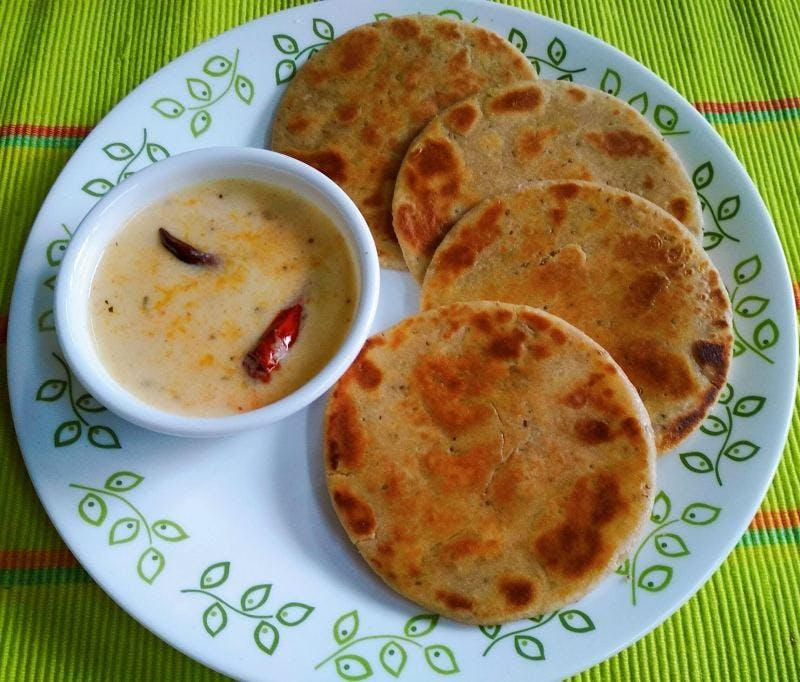bhakri: (292, 310, 677, 623), (434, 180, 741, 445), (389, 79, 706, 266), (259, 15, 532, 225)
coconut chutney: (75, 175, 362, 438)
